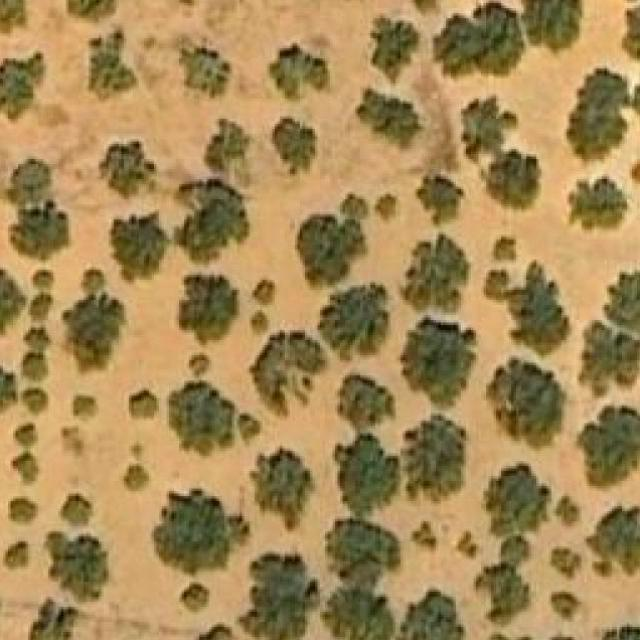Tree: (481, 260, 572, 358), (151, 491, 250, 580), (485, 355, 572, 450), (433, 0, 527, 78), (397, 320, 476, 409), (62, 270, 126, 373), (179, 177, 250, 268), (249, 330, 322, 414), (574, 405, 640, 494), (565, 68, 629, 159), (319, 283, 390, 363), (250, 551, 315, 637), (166, 380, 235, 459), (250, 449, 315, 532), (400, 234, 471, 308), (405, 416, 466, 501), (176, 272, 240, 350), (43, 531, 109, 602), (293, 214, 363, 280), (580, 321, 640, 397), (109, 214, 169, 285), (568, 174, 629, 238), (367, 16, 421, 87), (339, 439, 393, 509), (461, 97, 519, 162), (587, 504, 640, 574), (604, 253, 640, 356), (332, 521, 396, 577), (491, 471, 546, 536), (481, 152, 539, 212), (88, 31, 137, 102), (522, 0, 584, 56), (10, 201, 68, 260), (357, 88, 418, 144), (270, 43, 328, 99), (340, 370, 396, 428), (101, 141, 156, 199), (333, 586, 391, 640), (178, 43, 231, 98), (0, 53, 44, 118), (198, 114, 250, 168), (406, 593, 464, 640), (483, 566, 531, 620), (415, 177, 464, 228), (272, 116, 315, 174), (31, 596, 79, 640), (7, 424, 40, 487), (7, 159, 50, 202), (63, 0, 119, 26), (0, 267, 21, 332), (620, 0, 640, 57), (548, 592, 582, 622), (70, 391, 100, 424), (60, 494, 90, 527), (7, 496, 40, 524), (0, 358, 18, 409), (129, 388, 159, 418), (339, 192, 375, 216), (0, 0, 26, 33), (453, 532, 483, 560), (181, 584, 209, 614), (3, 542, 31, 572), (397, 0, 456, 13), (238, 414, 262, 444), (124, 463, 149, 491), (491, 235, 516, 262), (23, 354, 51, 376), (250, 310, 270, 338), (27, 388, 50, 412), (252, 278, 276, 301), (189, 627, 230, 640), (376, 195, 396, 218), (189, 354, 209, 376)
